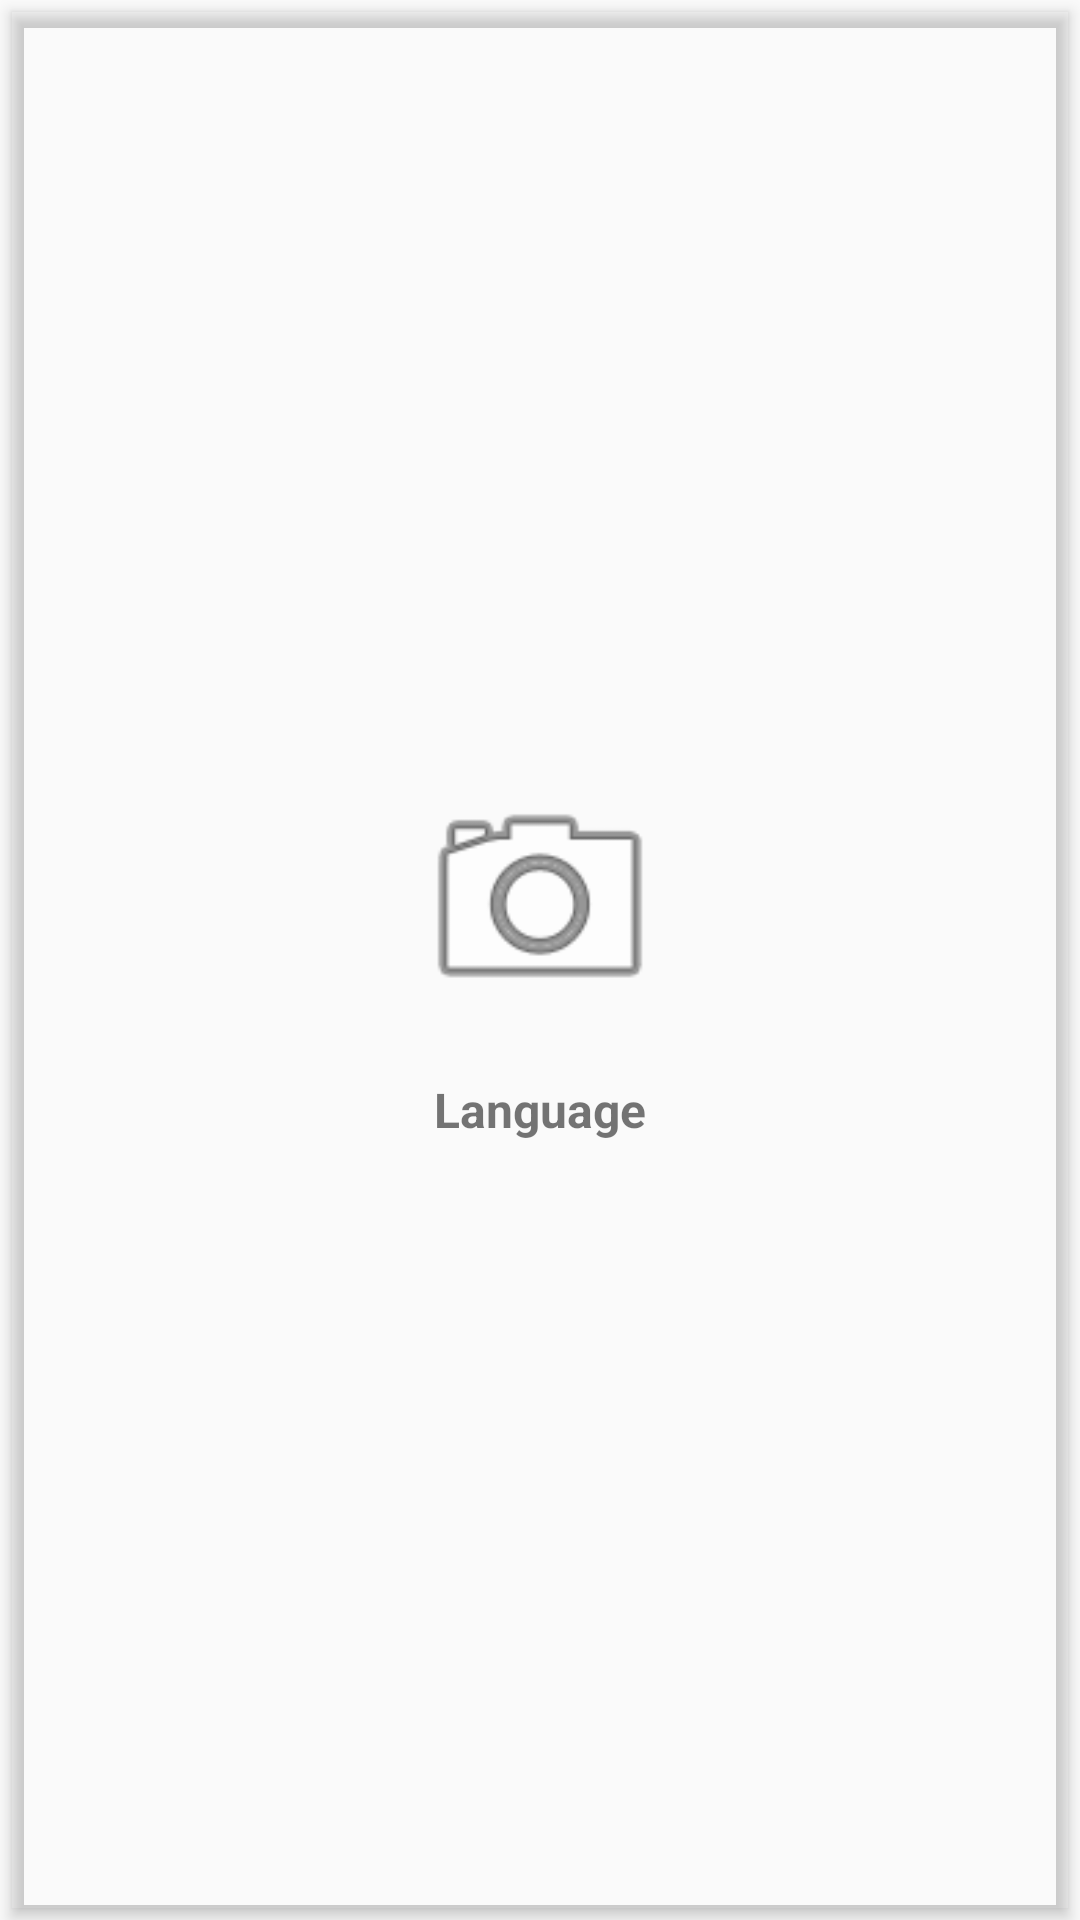

Locate icon controls on the screen. Image size 1080px x 1920px, boxes as (x1, y1, x2, y2).
camera: (438, 814, 642, 977)
